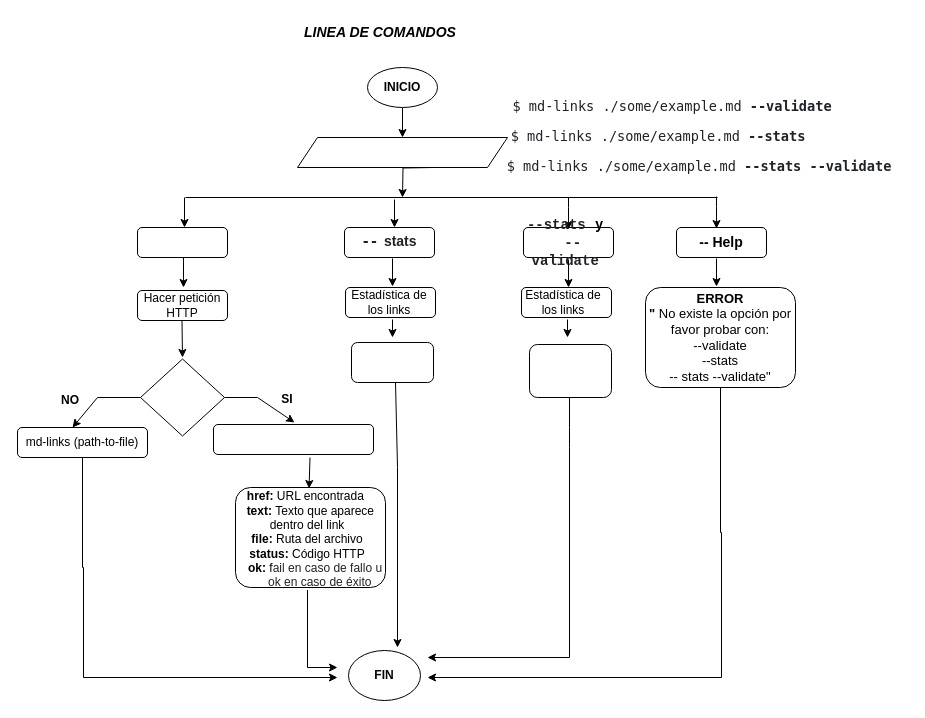
Some shapes in this 925 by 718 pixel diagram are drawn without their labels. The shapes that lost their labels are listed below. From the top down, each one's box as (x1, y1, x2, y2) in pixels, then its label:
(296, 136, 508, 168): md-links <path-to-file> [options]
(136, 226, 228, 258): --validate
(350, 342, 434, 382): Total Unique
(528, 344, 612, 398): Total Unique Broken
(140, 358, 224, 436): Link Funciona
(212, 424, 374, 454): md-links (path-to-file, {validate: true})
